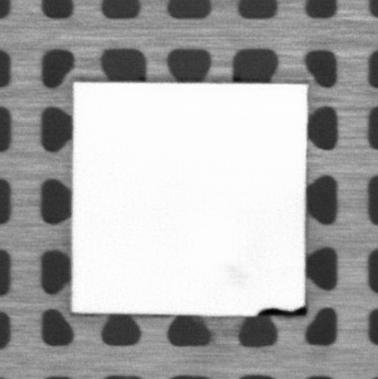DIE_BROKEN: (256, 305, 307, 319)
